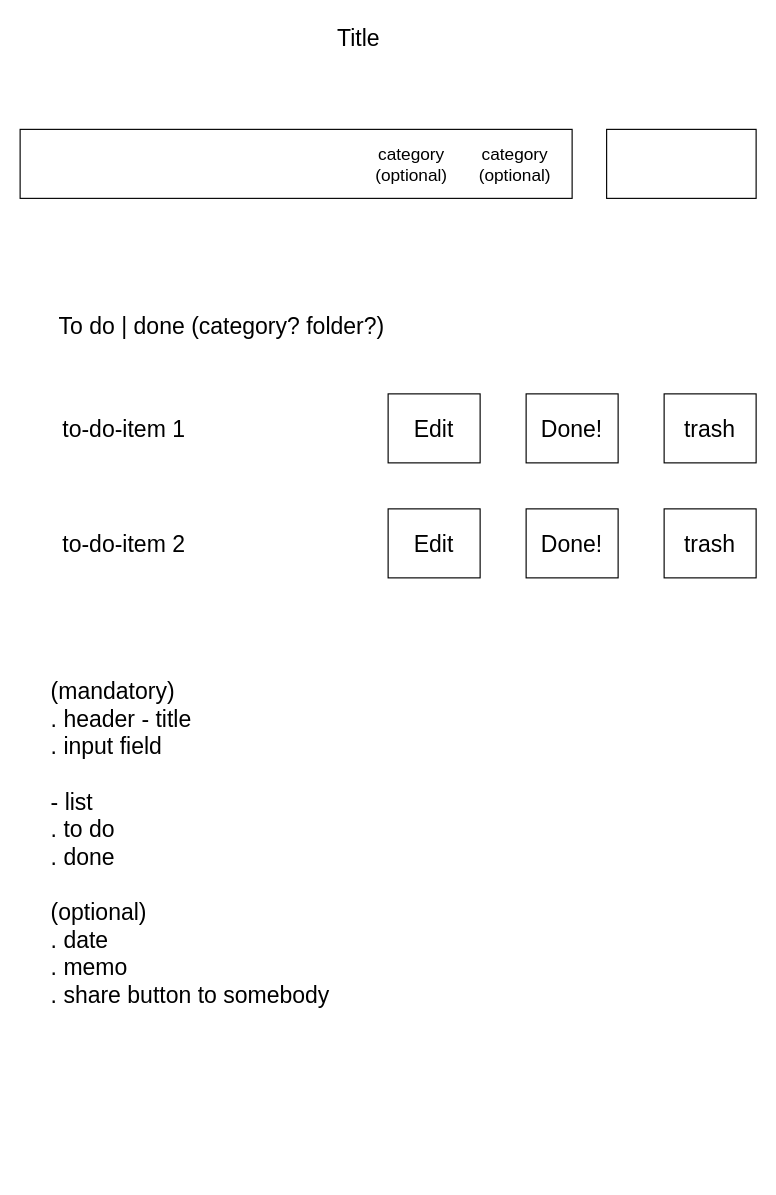
Image size: 776x1195. Some labels were removed from this diagram. Here are the shapes that lost their labels. From the top down, the box of each, then its label:
(19, 128, 572, 198): What needs to be done?
(605, 128, 756, 198): create
